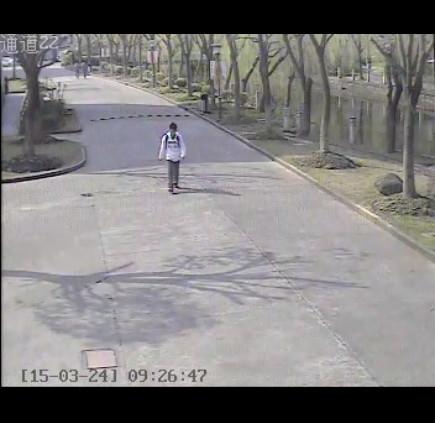person: (152, 117, 190, 196), (72, 59, 82, 81), (80, 59, 89, 80)
